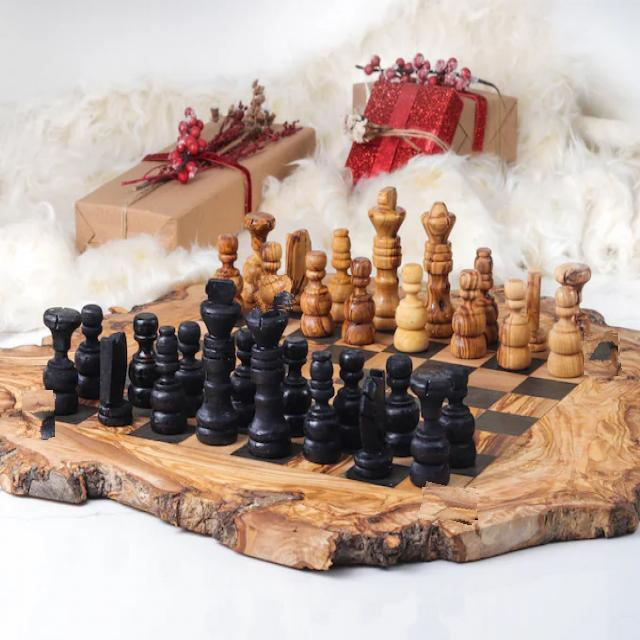chess-table-corners: (421, 484, 478, 523), (19, 390, 55, 439), (582, 332, 620, 376), (252, 276, 295, 312)
